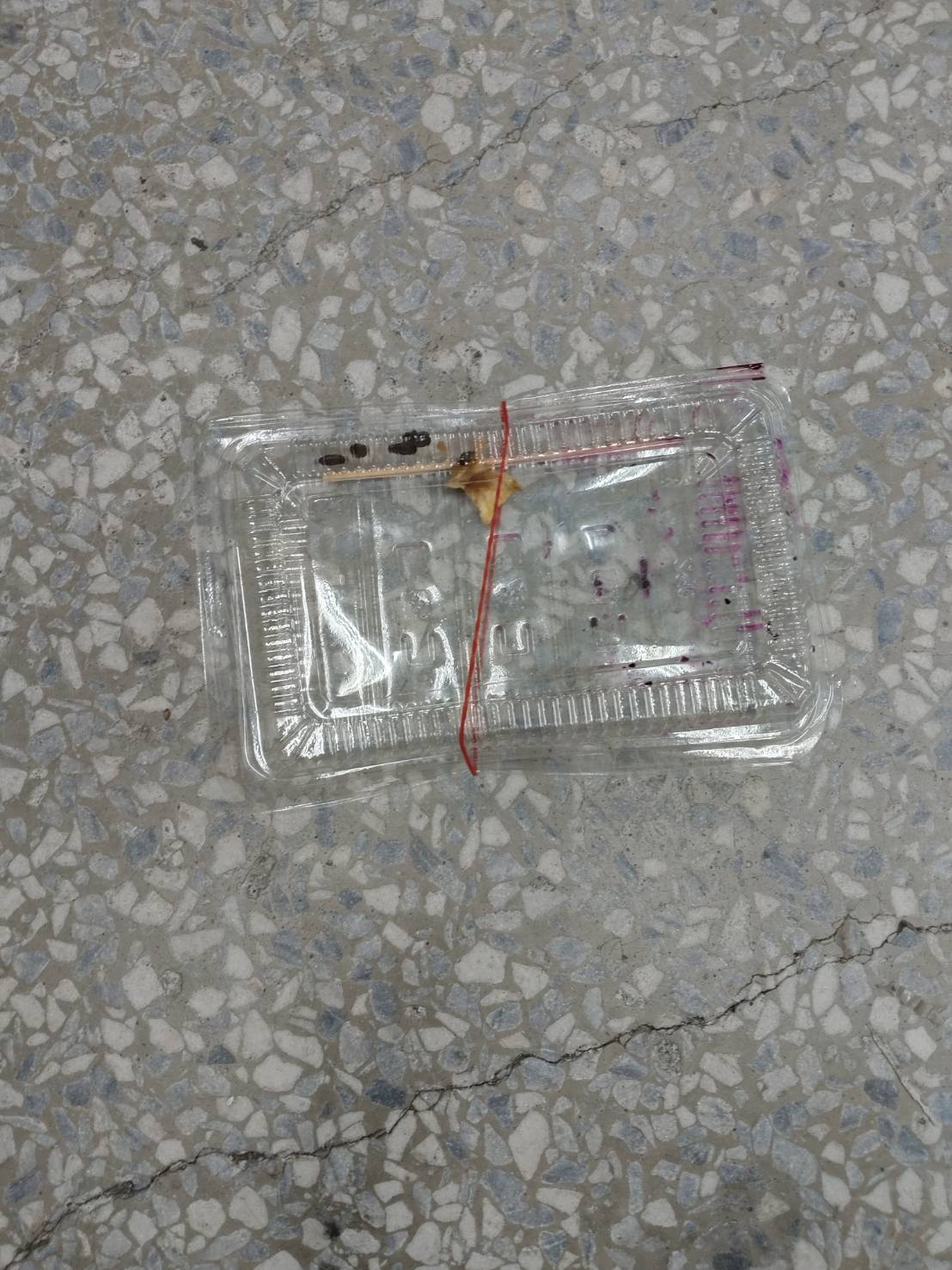plastic: (52, 308, 903, 856)
